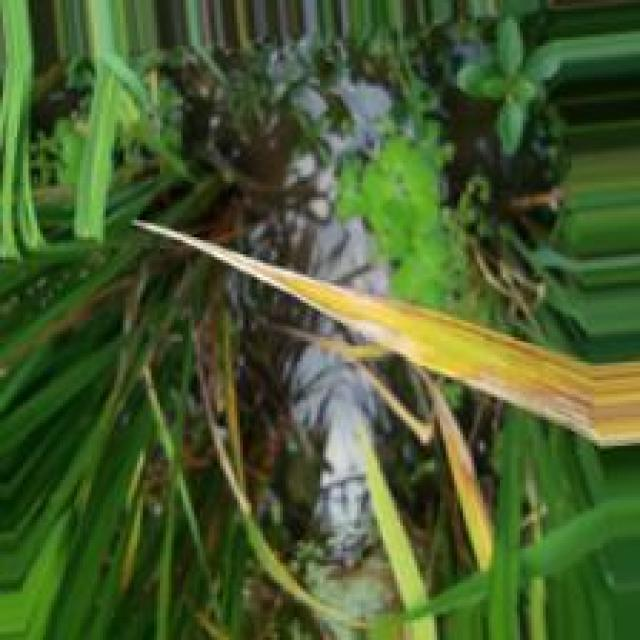Leaf_Scald: (134, 220, 640, 452)
